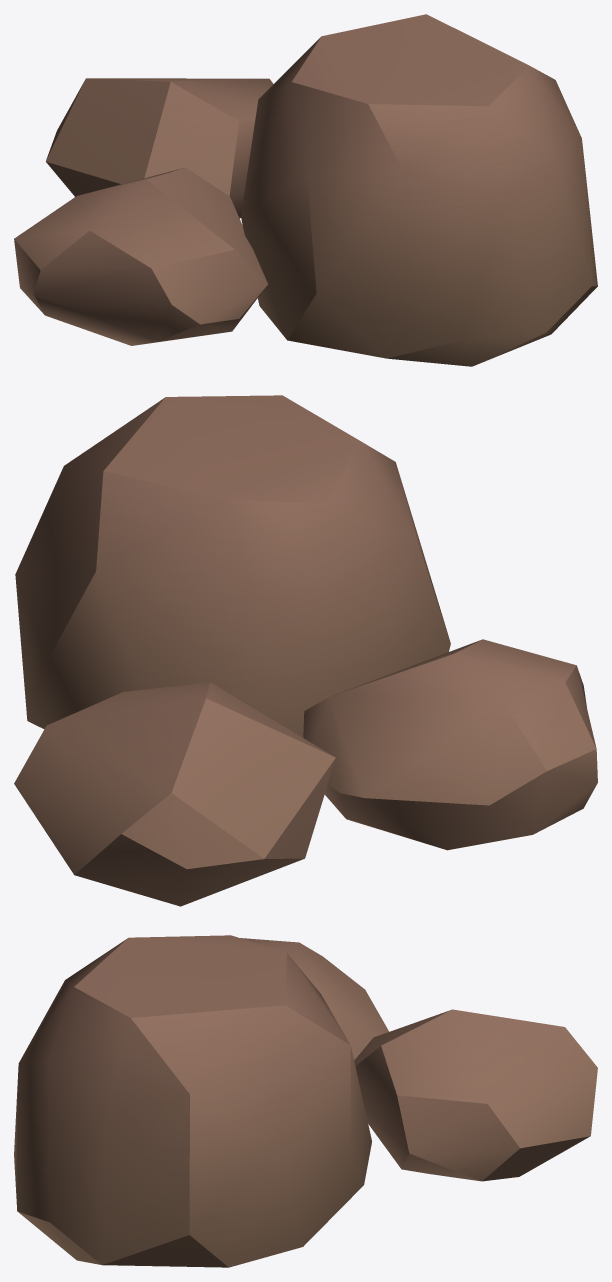
Rendered from Stone01.fbx.
3 renders of one model, top to bottom at view 1: azimuth 30°, elevation 25°; view 2: azimuth 150°, elevation 25°; view 3: azimuth 270°, elevation 25°, orthographic. The views are drawn at different scales.
Visible parts, largest first — view 1: Stone01; view 2: Stone01; view 3: Stone01.
Part boxes in pixels (x1,y1,x2,y2): Stone01: (14, 14, 597, 366); Stone01: (14, 395, 597, 906); Stone01: (14, 935, 597, 1267).
Size of the model in its own units: 413 by 195 by 416.
